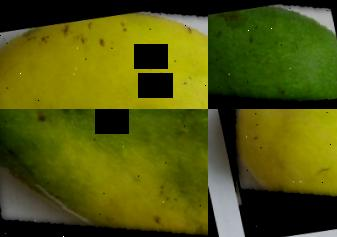PartiallyRipe: (0, 109, 208, 237)
Ripe: (0, 0, 208, 109), (216, 109, 337, 237)
Unripe: (208, 0, 337, 109)
